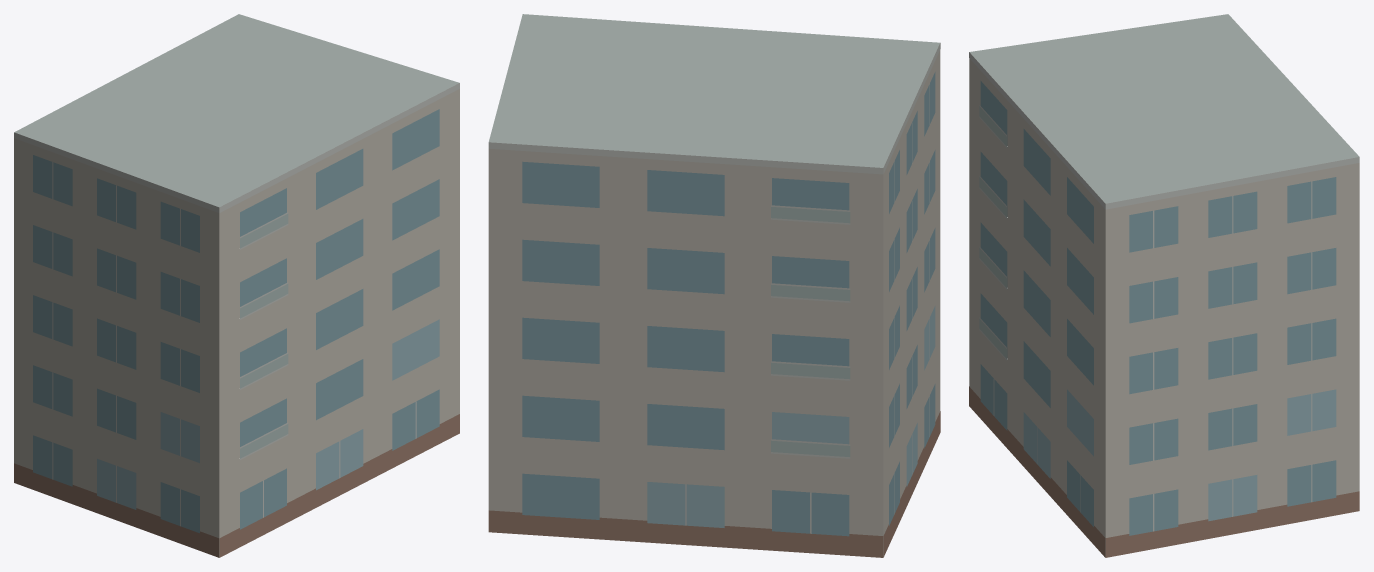
Rendered from survey-upis-32842526.glb.
3 renders of one model, left to right at view 1: azimuth 30°, elevation 25°; view 2: azimuth 150°, elevation 25°; view 3: azimuth 270°, elevation 25°, orthographic. The views are drawn at different scales.
Parts seen in each view (by area): view 1: survey-upis-32842526.tmp; view 2: survey-upis-32842526.tmp; view 3: survey-upis-32842526.tmp.
Part boxes in pixels (x1,y1,x2,y2): survey-upis-32842526.tmp: (14,14,459,557); survey-upis-32842526.tmp: (488,14,940,557); survey-upis-32842526.tmp: (969,14,1359,557).
Bounding box in the file's own units: 16.91 × 14.7 × 14.7.
